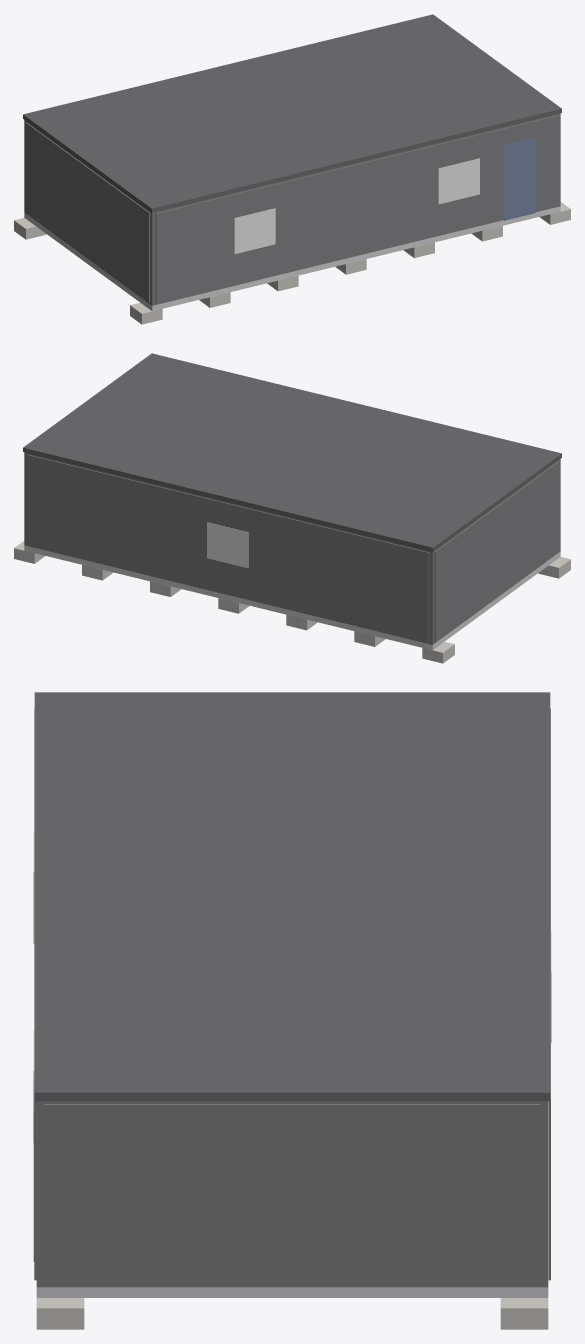
File: Studio-40-Base-CharcoalSilver-LOD1.glb
3 renders of one model, top to bottom at view 1: azimuth 30°, elevation 25°; view 2: azimuth 150°, elevation 25°; view 3: azimuth 270°, elevation 25°, orthographic. The views are drawn at different scales.
Visible parts, largest first — view 1: RoofMain, ExteriorPanelsStandard, BaseFrame, WindowsStandard, ExteriorShell, FoundationBlocks, EntryDoor; view 2: RoofMain, ExteriorPanelsStandard, BaseFrame, ExteriorShell, FoundationBlocks, WindowsStandard; view 3: RoofMain, ExteriorPanelsStandard, ExteriorShell, BaseFrame, FoundationBlocks.
Boxes of the visible parts, x1,y1,x2,y2 form: RoofMain: [23, 14, 561, 212]; ExteriorPanelsStandard: [25, 115, 557, 303]; BaseFrame: [24, 206, 560, 311]; WindowsStandard: [234, 158, 479, 254]; ExteriorShell: [24, 113, 560, 305]; FoundationBlocks: [14, 202, 570, 324]; EntryDoor: [504, 137, 535, 220]; RoofMain: [23, 353, 561, 551]; ExteriorPanelsStandard: [27, 454, 559, 642]; BaseFrame: [24, 545, 560, 650]; ExteriorShell: [24, 452, 560, 644]; FoundationBlocks: [14, 541, 570, 663]; WindowsStandard: [207, 522, 248, 568]; RoofMain: [34, 692, 550, 1101]; ExteriorPanelsStandard: [34, 708, 550, 1284]; ExteriorShell: [36, 1101, 548, 1287]; BaseFrame: [36, 1287, 548, 1297]; FoundationBlocks: [36, 1298, 548, 1329].
Bounding box in the file's own units: 12.49 × 3.17 × 6.53.
